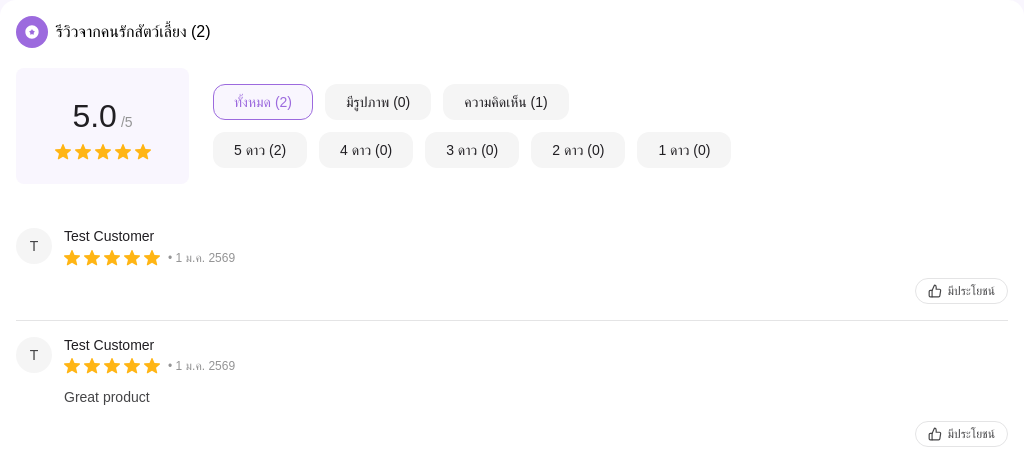
Test: ProductDetailsSellerReviews › filters reviews with comments only
Click the button "ความคิดเห็น (1)" at (506, 102), box top-left (443, 84), bottom-right (569, 120)
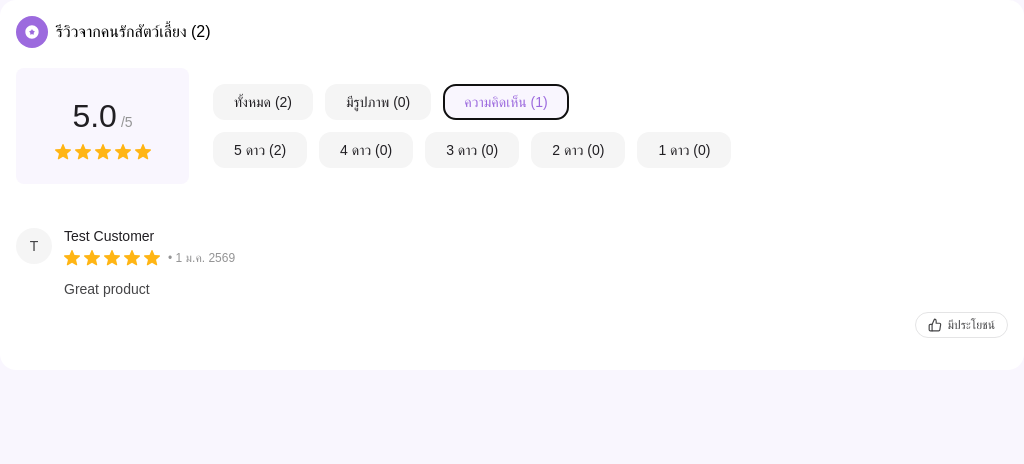
expect the element with test id "product-review-item-review-with-comment" is shown: met, box top-left (16, 212), bottom-right (1008, 354)
expect the element with test id "product-review-item-review-no-comment" is gone: met
